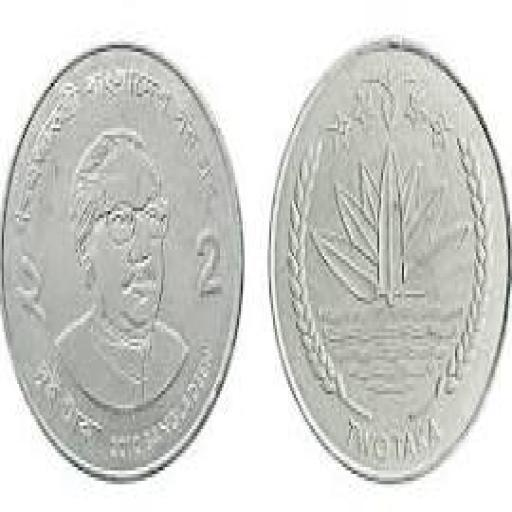2taka: (269, 42, 510, 477), (0, 45, 241, 477)
